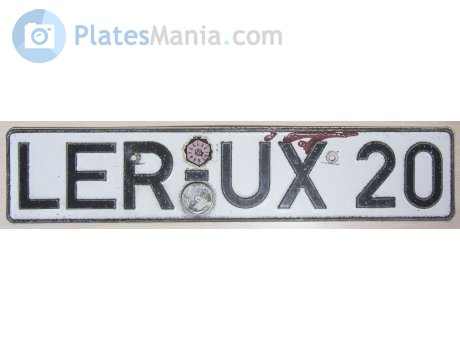License Plates: (15, 140, 439, 205)
